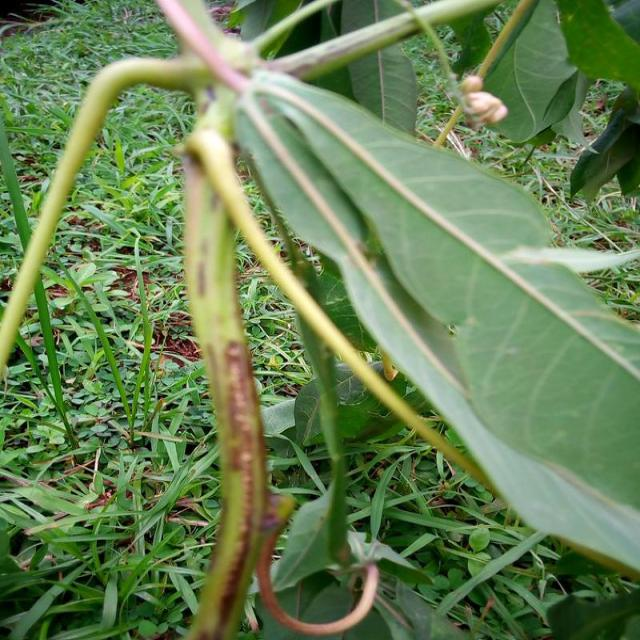cassava leaf: (231, 66, 639, 581)
